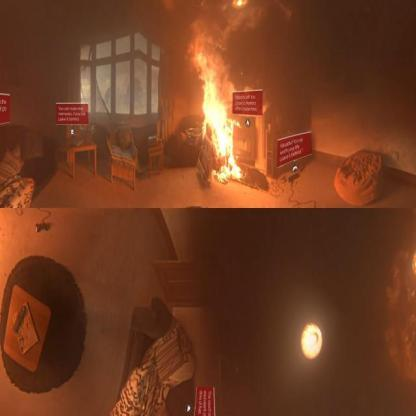Fire: (188, 22, 245, 186)
